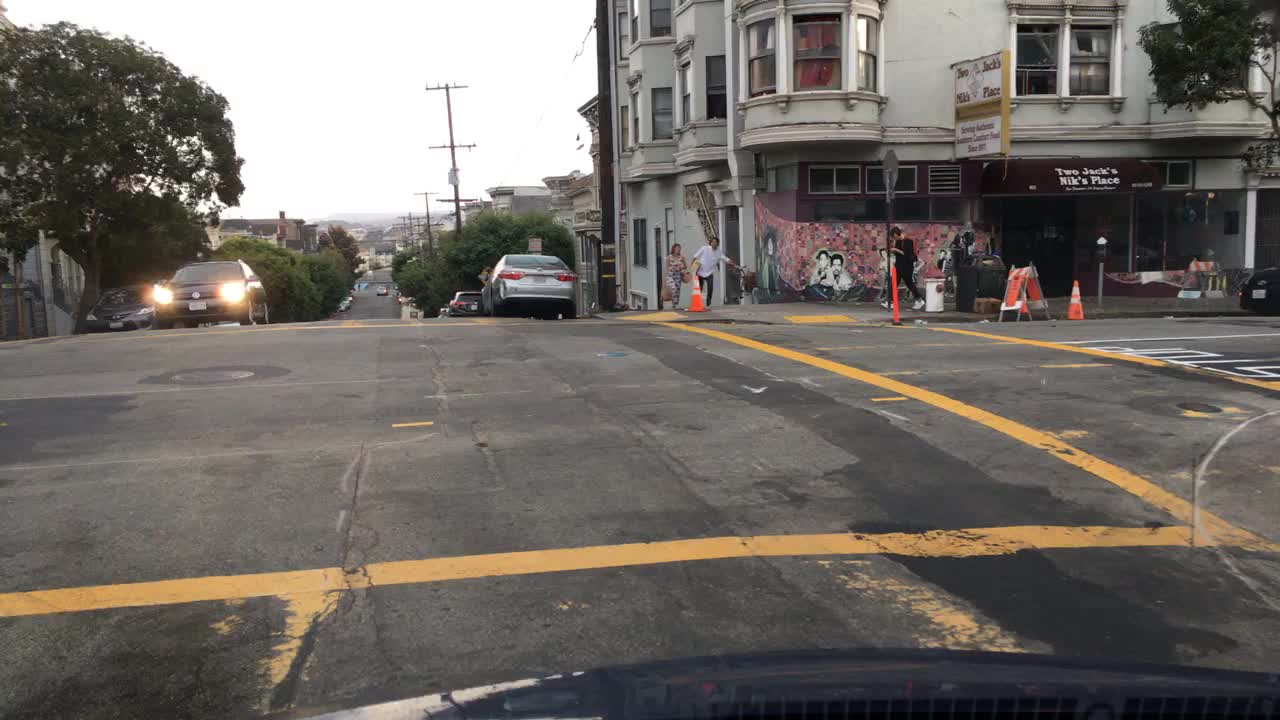car: (152, 259, 269, 327), (477, 254, 577, 320), (83, 281, 159, 335), (1236, 266, 1278, 320), (439, 287, 486, 320), (334, 299, 351, 310), (373, 284, 388, 296), (340, 293, 355, 305), (403, 296, 415, 311), (406, 308, 420, 320), (333, 301, 345, 314), (394, 295, 409, 305)
person: (685, 235, 745, 311), (878, 224, 925, 314), (658, 239, 691, 314)
traffic sign: (878, 149, 898, 188), (525, 233, 543, 254), (478, 263, 493, 286), (445, 167, 459, 187)
